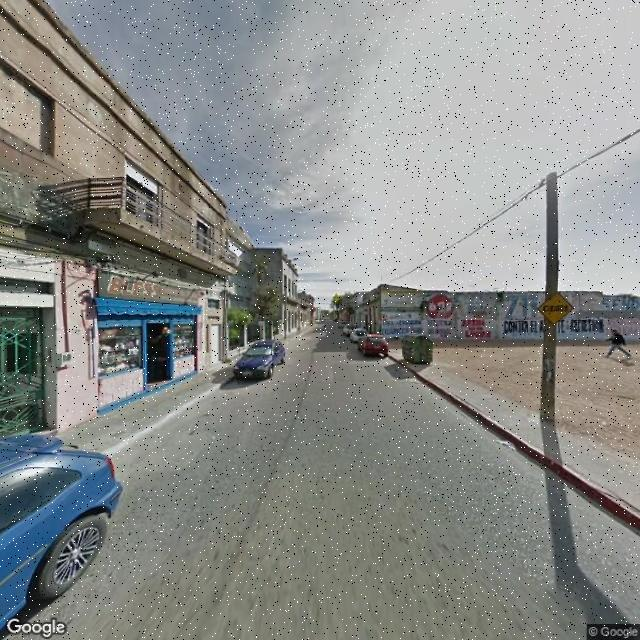garbage container: (394, 328, 442, 374)
